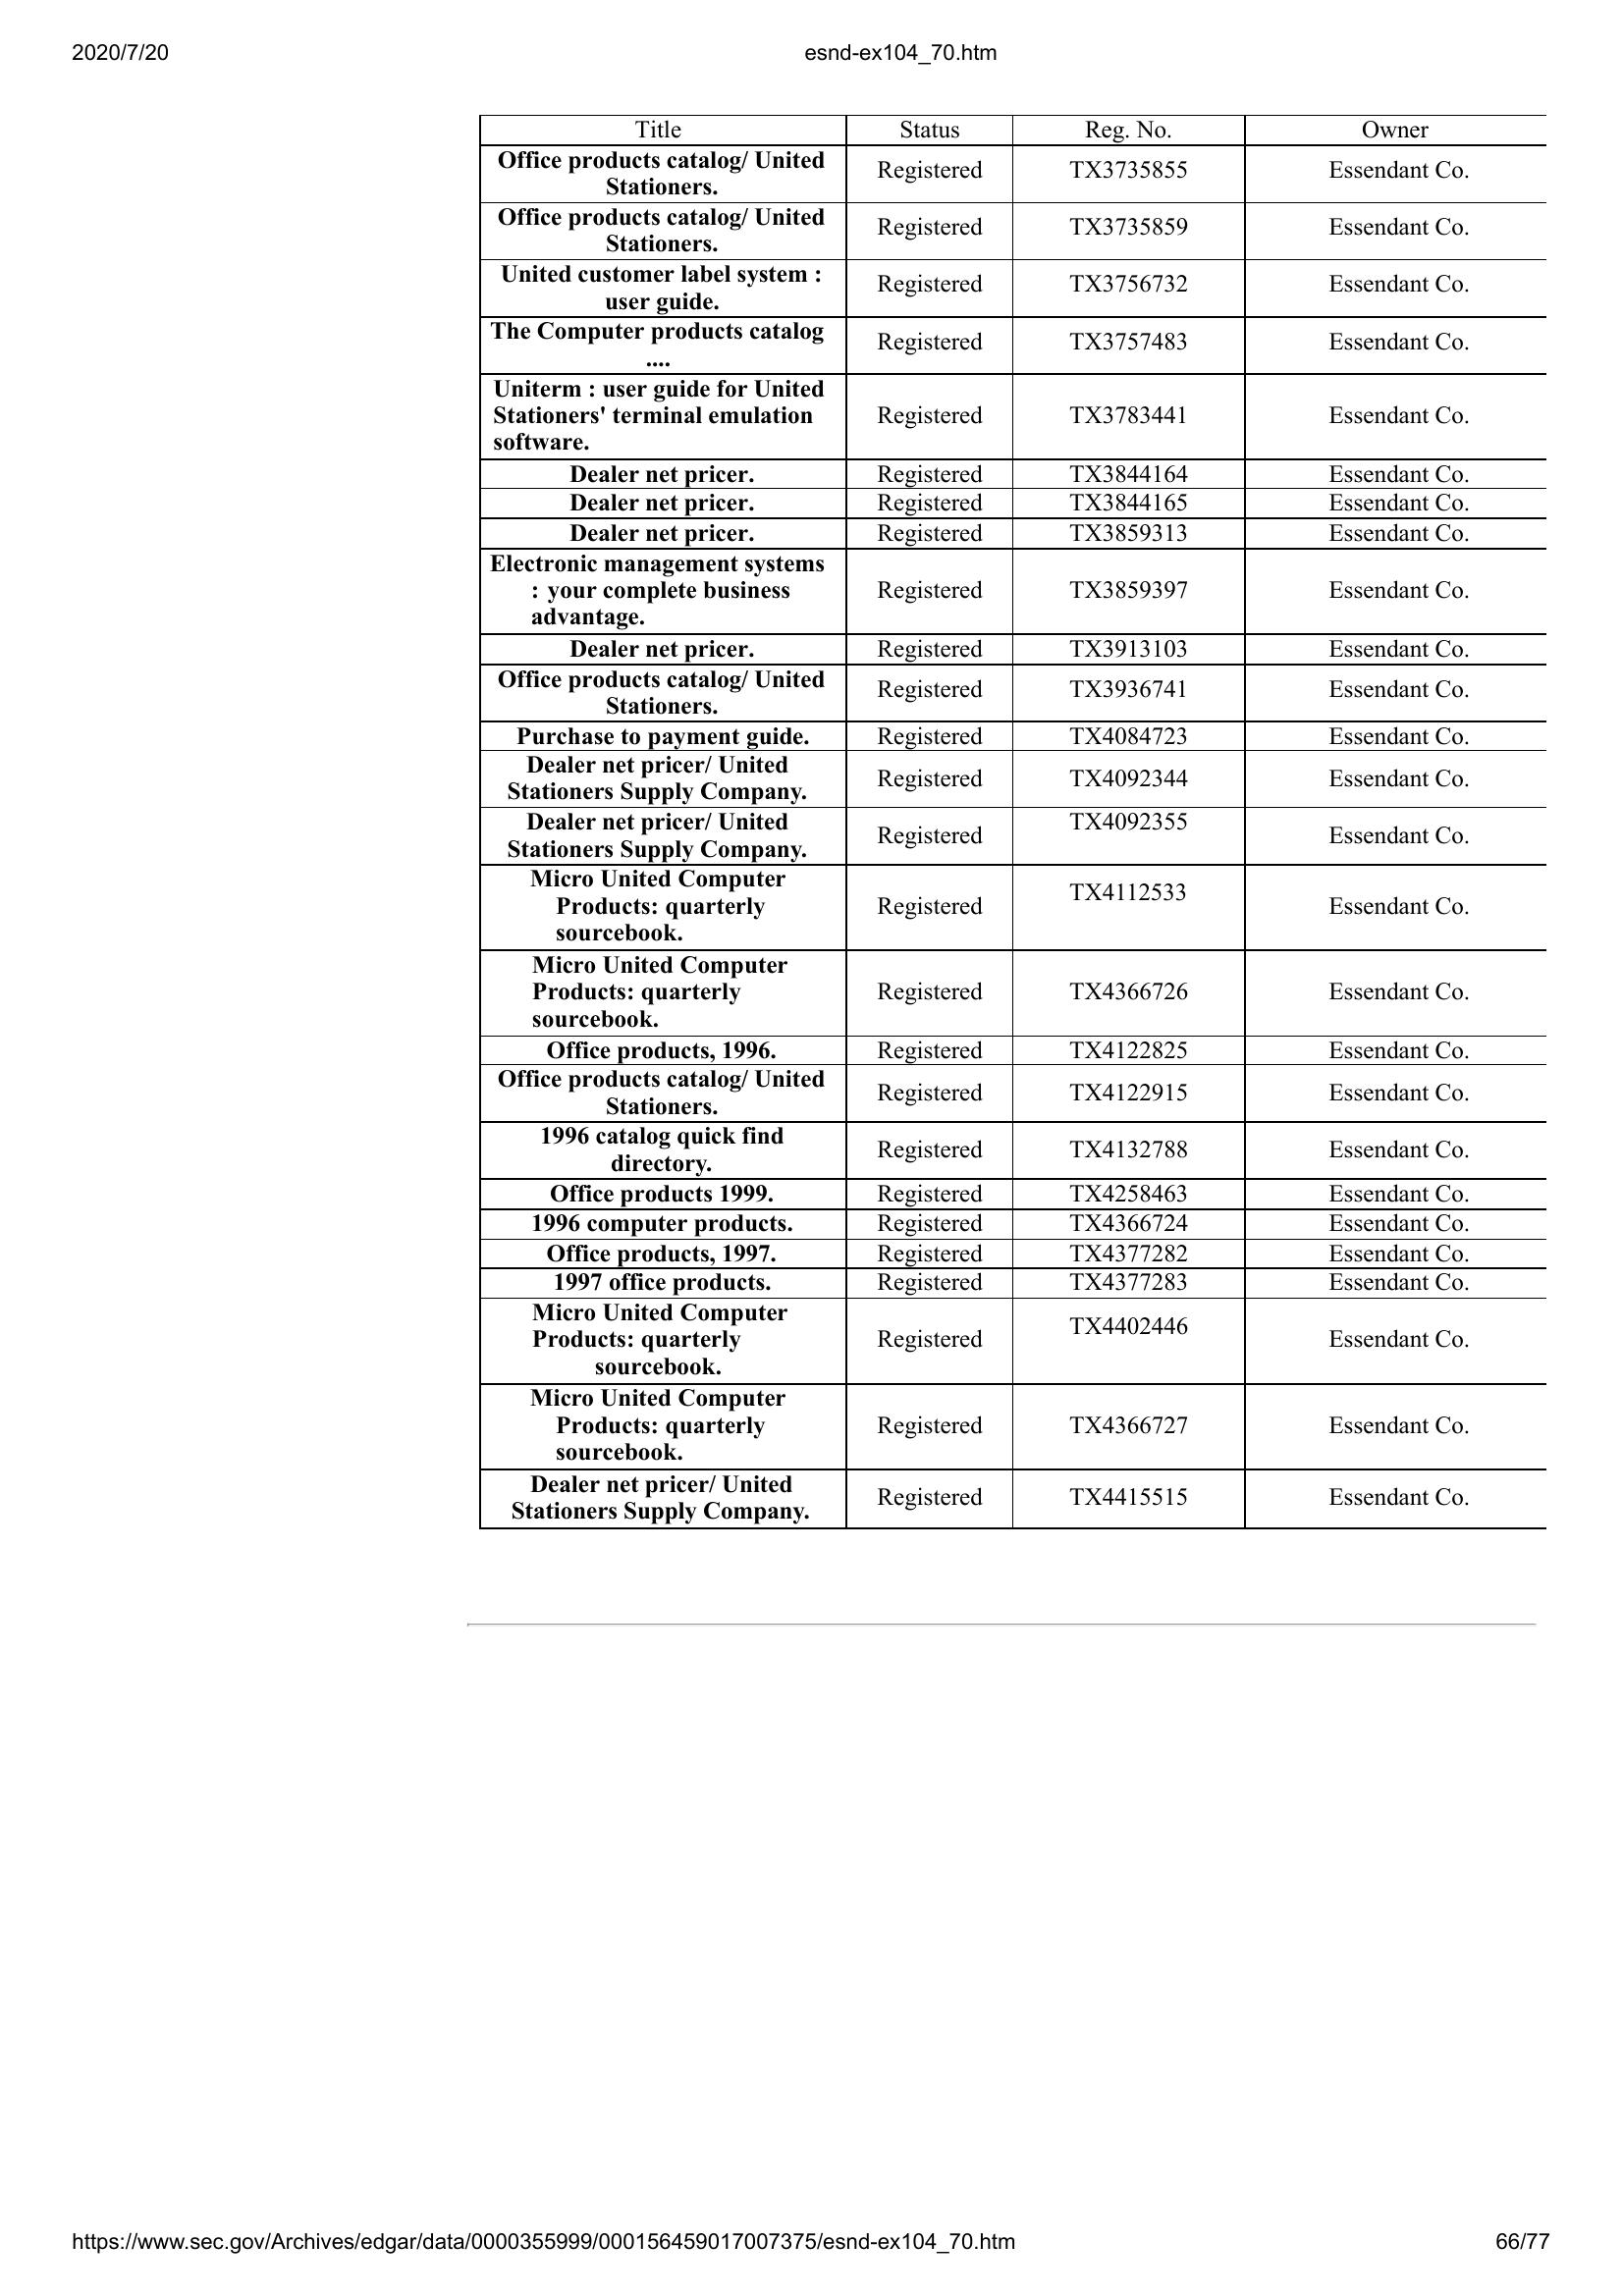table: (469, 105, 1560, 1539)
